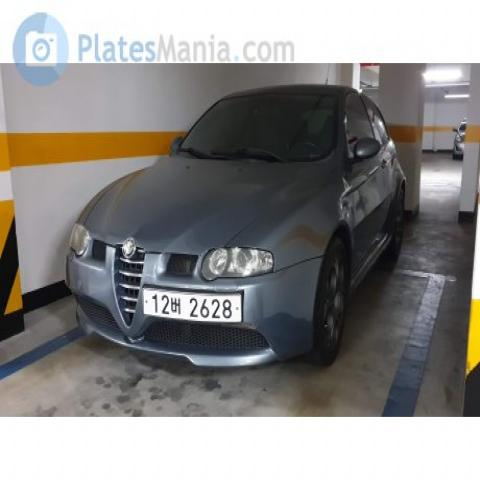LP: (137, 279, 254, 333)
